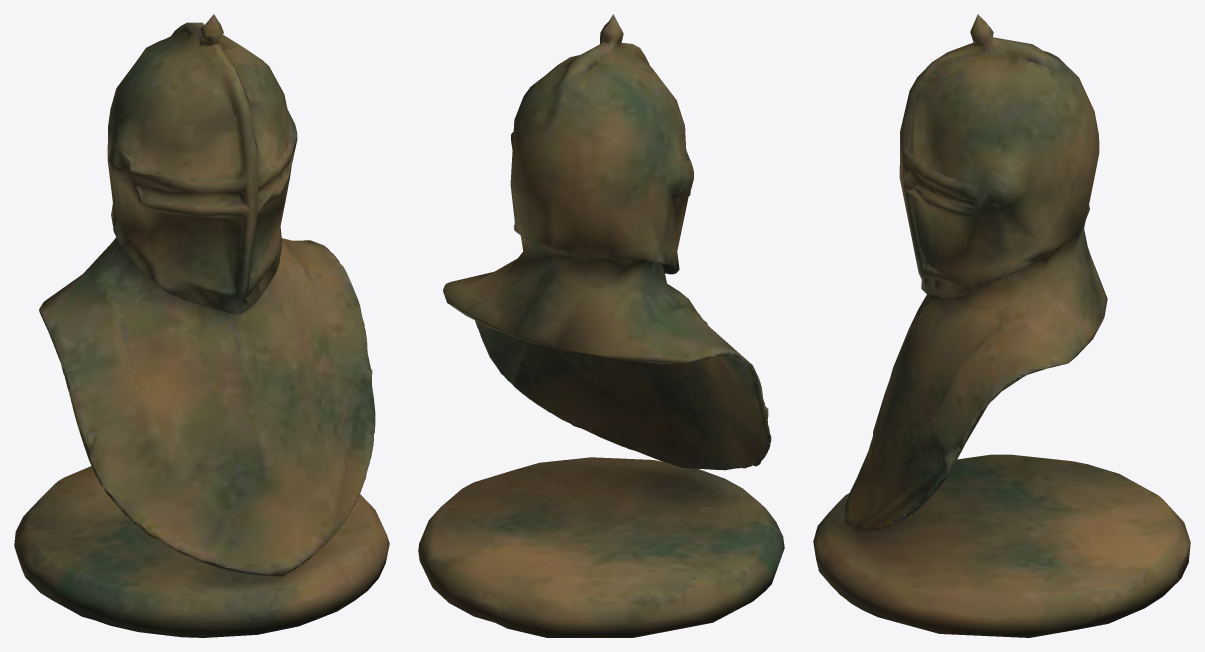
Rendered from plain-bronze-suit-of-armour-v002.glb.
The picture shows the model from 3 angles, left to right: view 1: azimuth 30°, elevation 25°; view 2: azimuth 150°, elevation 25°; view 3: azimuth 270°, elevation 25°; orthographic projection. The views are drawn at different scales.
Visible parts, largest first — view 1: plain-bronze-suit-of-armour; view 2: plain-bronze-suit-of-armour; view 3: plain-bronze-suit-of-armour.
Boxes of the visible parts, box(x1,y1,x2,y2) form: plain-bronze-suit-of-armour: box(14, 14, 389, 637); plain-bronze-suit-of-armour: box(418, 14, 784, 637); plain-bronze-suit-of-armour: box(813, 14, 1190, 637).
Size of the model in its own units: 1.17 by 1.94 by 1.2.
1 material, 1 textured.
